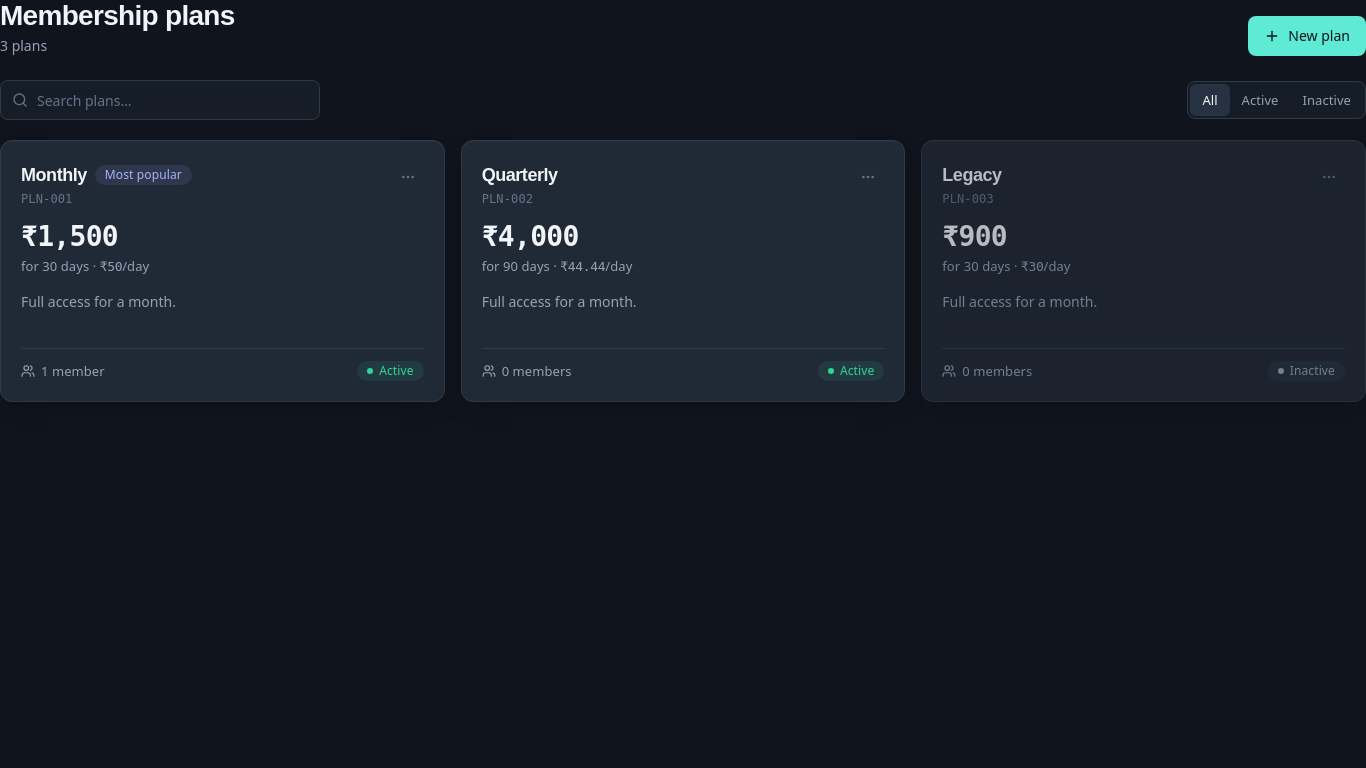
Test case: Plans page › edits a plan
The width and height of the screenshot is (1366, 768).
Expected: the heading "Quarterly" is shown, 482,161 -> 558,189
Click the button named "Actions for Quarterly".
click(868, 177)  # box 852,161 -> 884,193
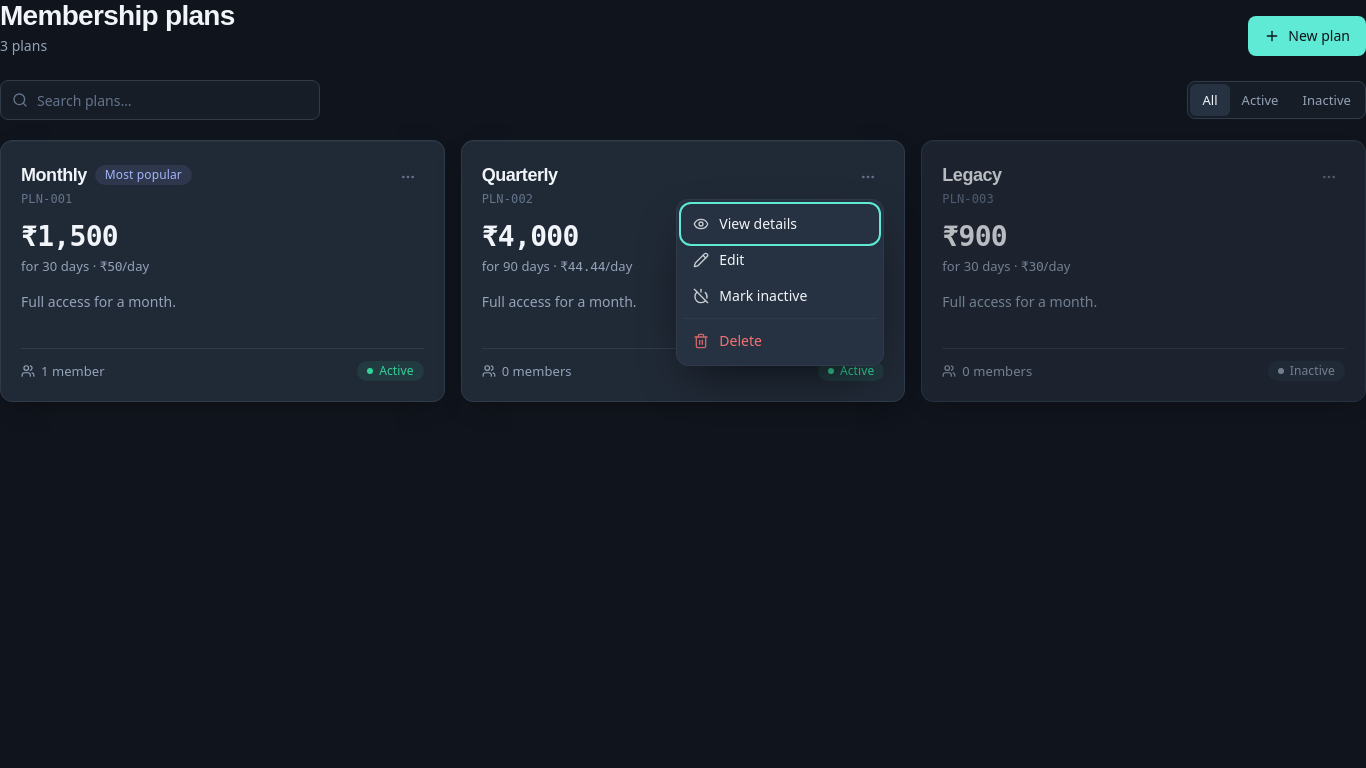
Click the menu item "Edit".
click(780, 260)  # box 683,242 -> 877,278
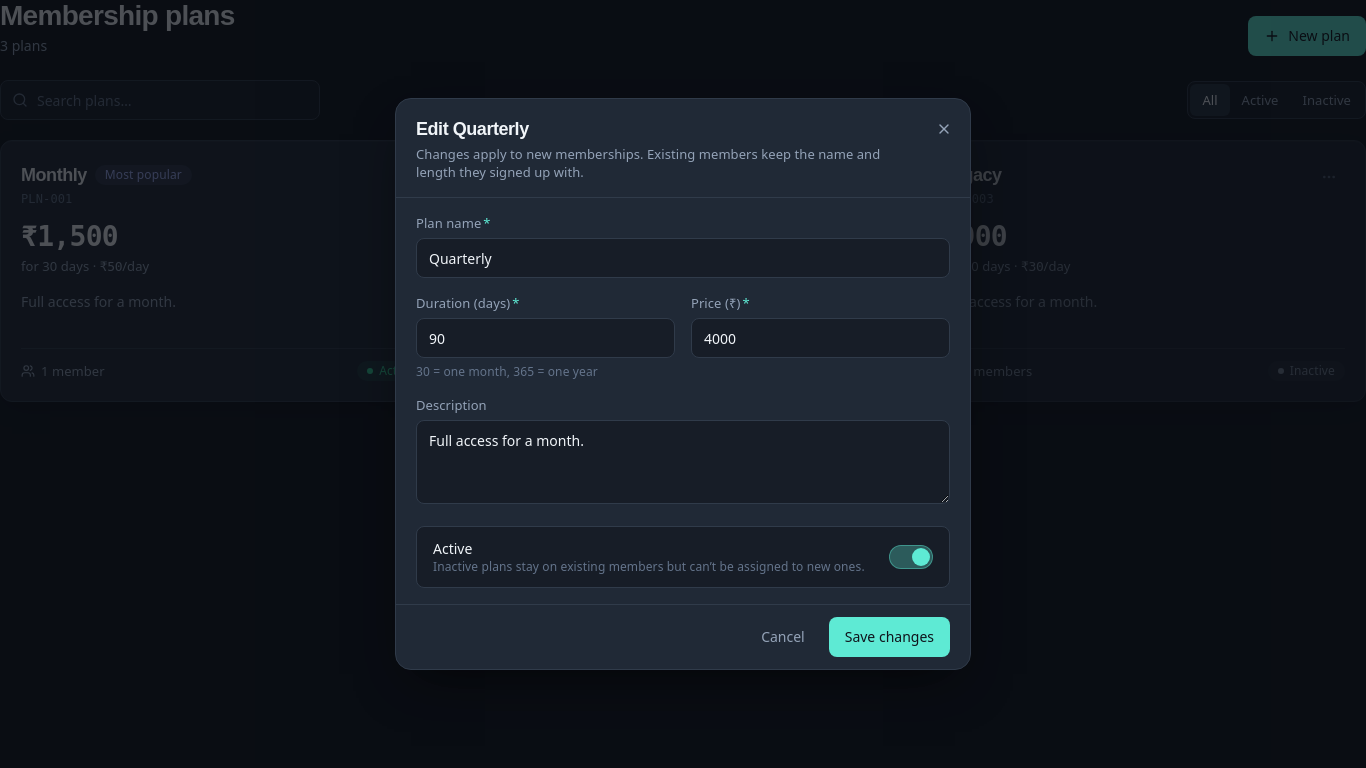
Replace the text in the number field labelled "Price (₹)*" with "4500" at (820, 338), box 691,318 -> 950,358
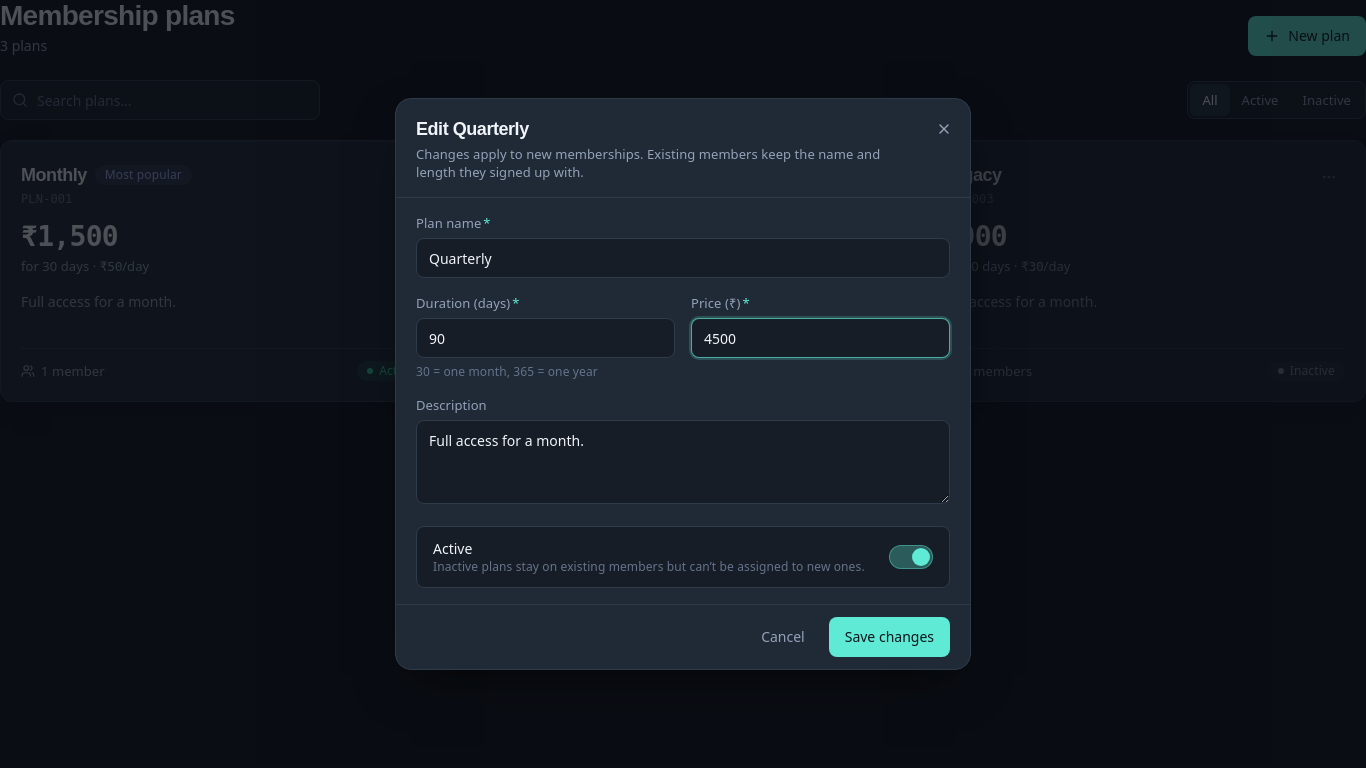
Click the button "Save changes".
click(889, 637)  # box 829,617 -> 950,657
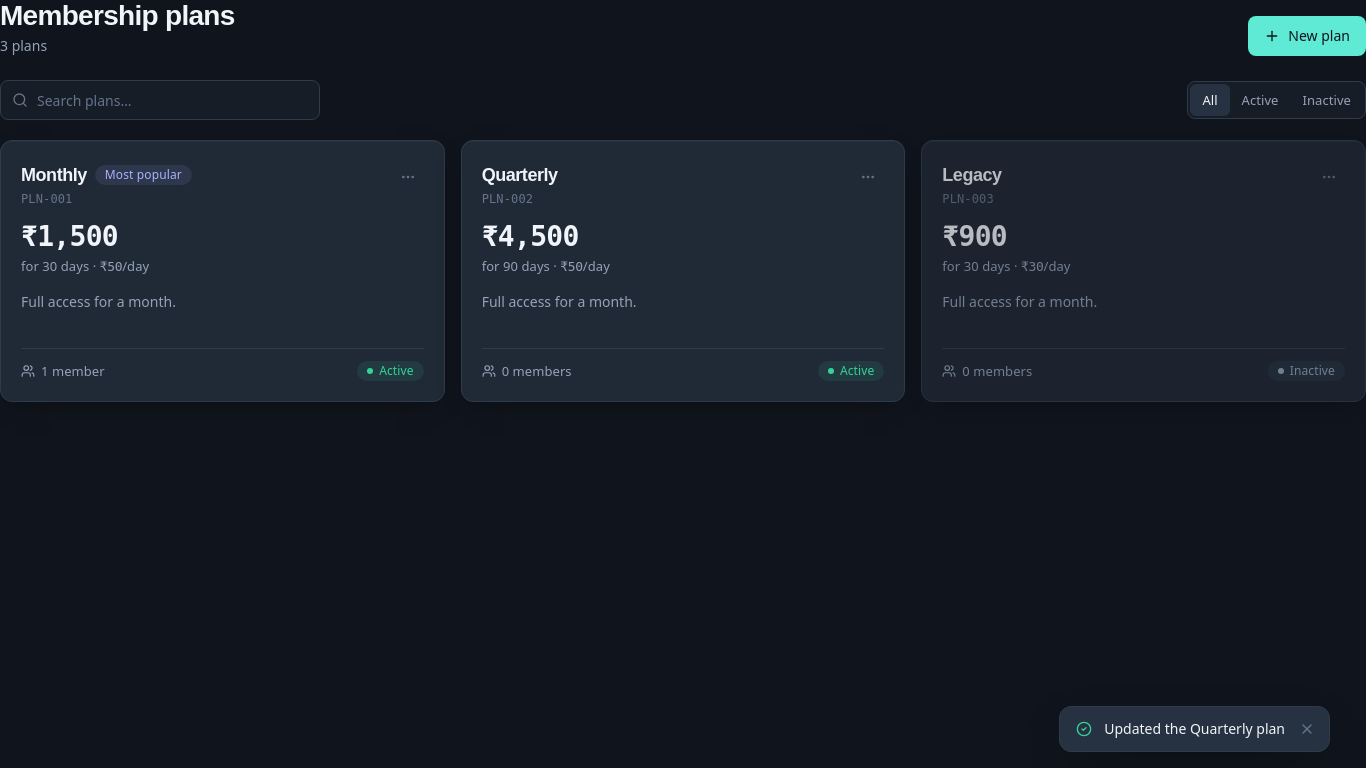
Expected: the text "₹4,500" is shown, 482,220 -> 579,253
